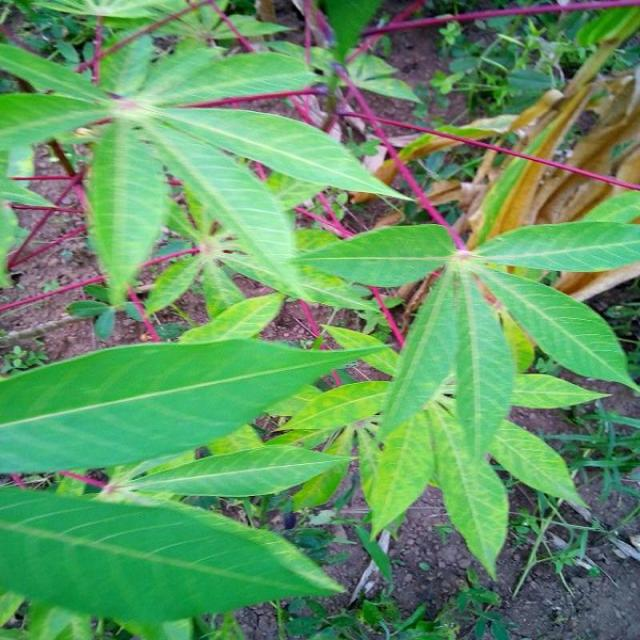cassava leaf: (2, 4, 640, 626), (1, 334, 393, 475), (1, 484, 346, 626)
